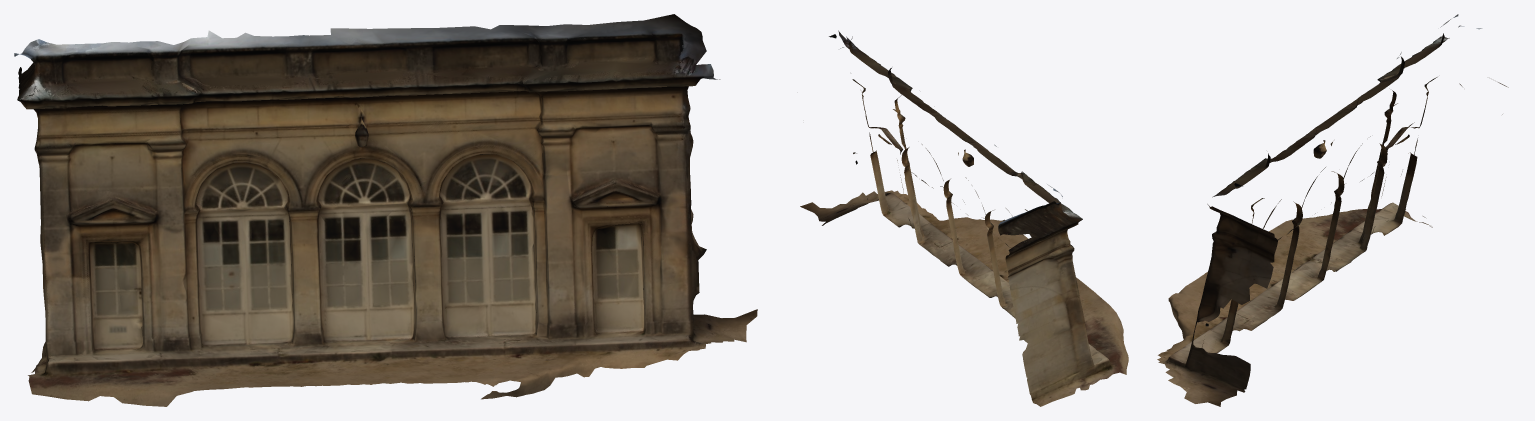
Rendered from model9_prev.glb.
The picture shows the model from 3 angles, left to right: view 1: azimuth 30°, elevation 25°; view 2: azimuth 150°, elevation 25°; view 3: azimuth 270°, elevation 25°; orthographic projection. The views are drawn at different scales.
Size of the model in its own units: 5.69 by 3.17 by 4.14.
Materials: 1 (1 with a texture image).
